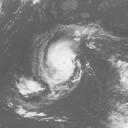cyclone: (47, 40, 76, 83)
